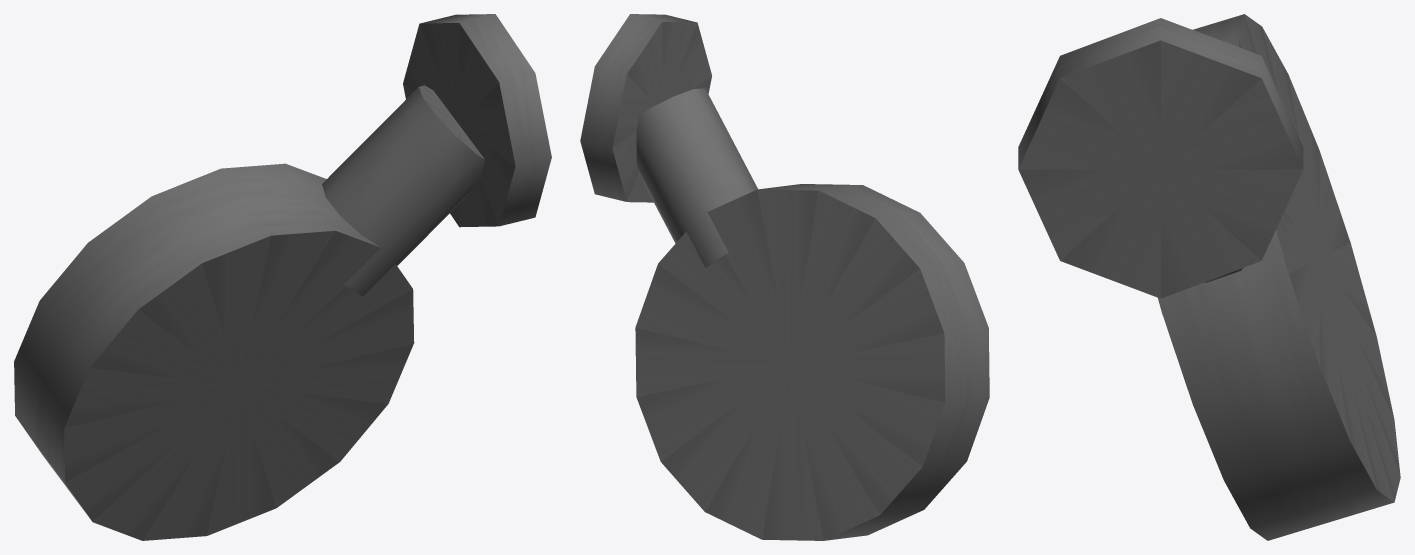
Rendered from mastarmcurve_10x2_c2_east.obj.
3 views of the same model, side by side, from view 1: azimuth 30°, elevation 25°; view 2: azimuth 150°, elevation 25°; view 3: azimuth 270°, elevation 25° (orthographic). The views are drawn at different scales.
Parts seen in each view (by area): view 1: mastarm_10x2_c2_east; view 2: mastarm_10x2_c2_east; view 3: mastarm_10x2_c2_east.
Part boxes in pixels (x1=…): mastarm_10x2_c2_east: x1=14, y1=14, x2=551, y2=540; mastarm_10x2_c2_east: x1=580, y1=14, x2=989, y2=540; mastarm_10x2_c2_east: x1=1018, y1=14, x2=1400, y2=540.
Size of the model in its own units: 0.8579 by 0.9696 by 0.5365.
